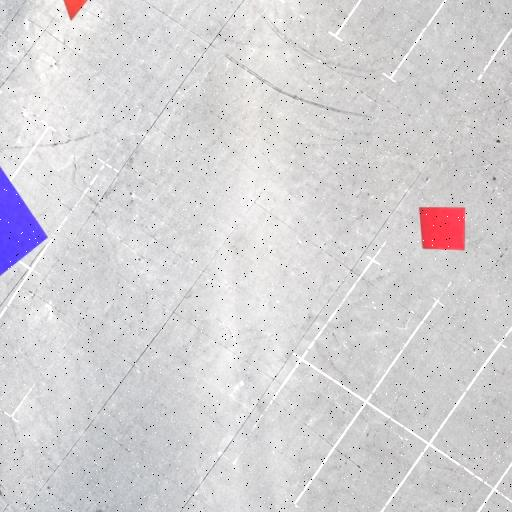BLUE_SQUARE: (0, 155, 49, 295)
RED_SQUARE: (418, 206, 466, 250)
